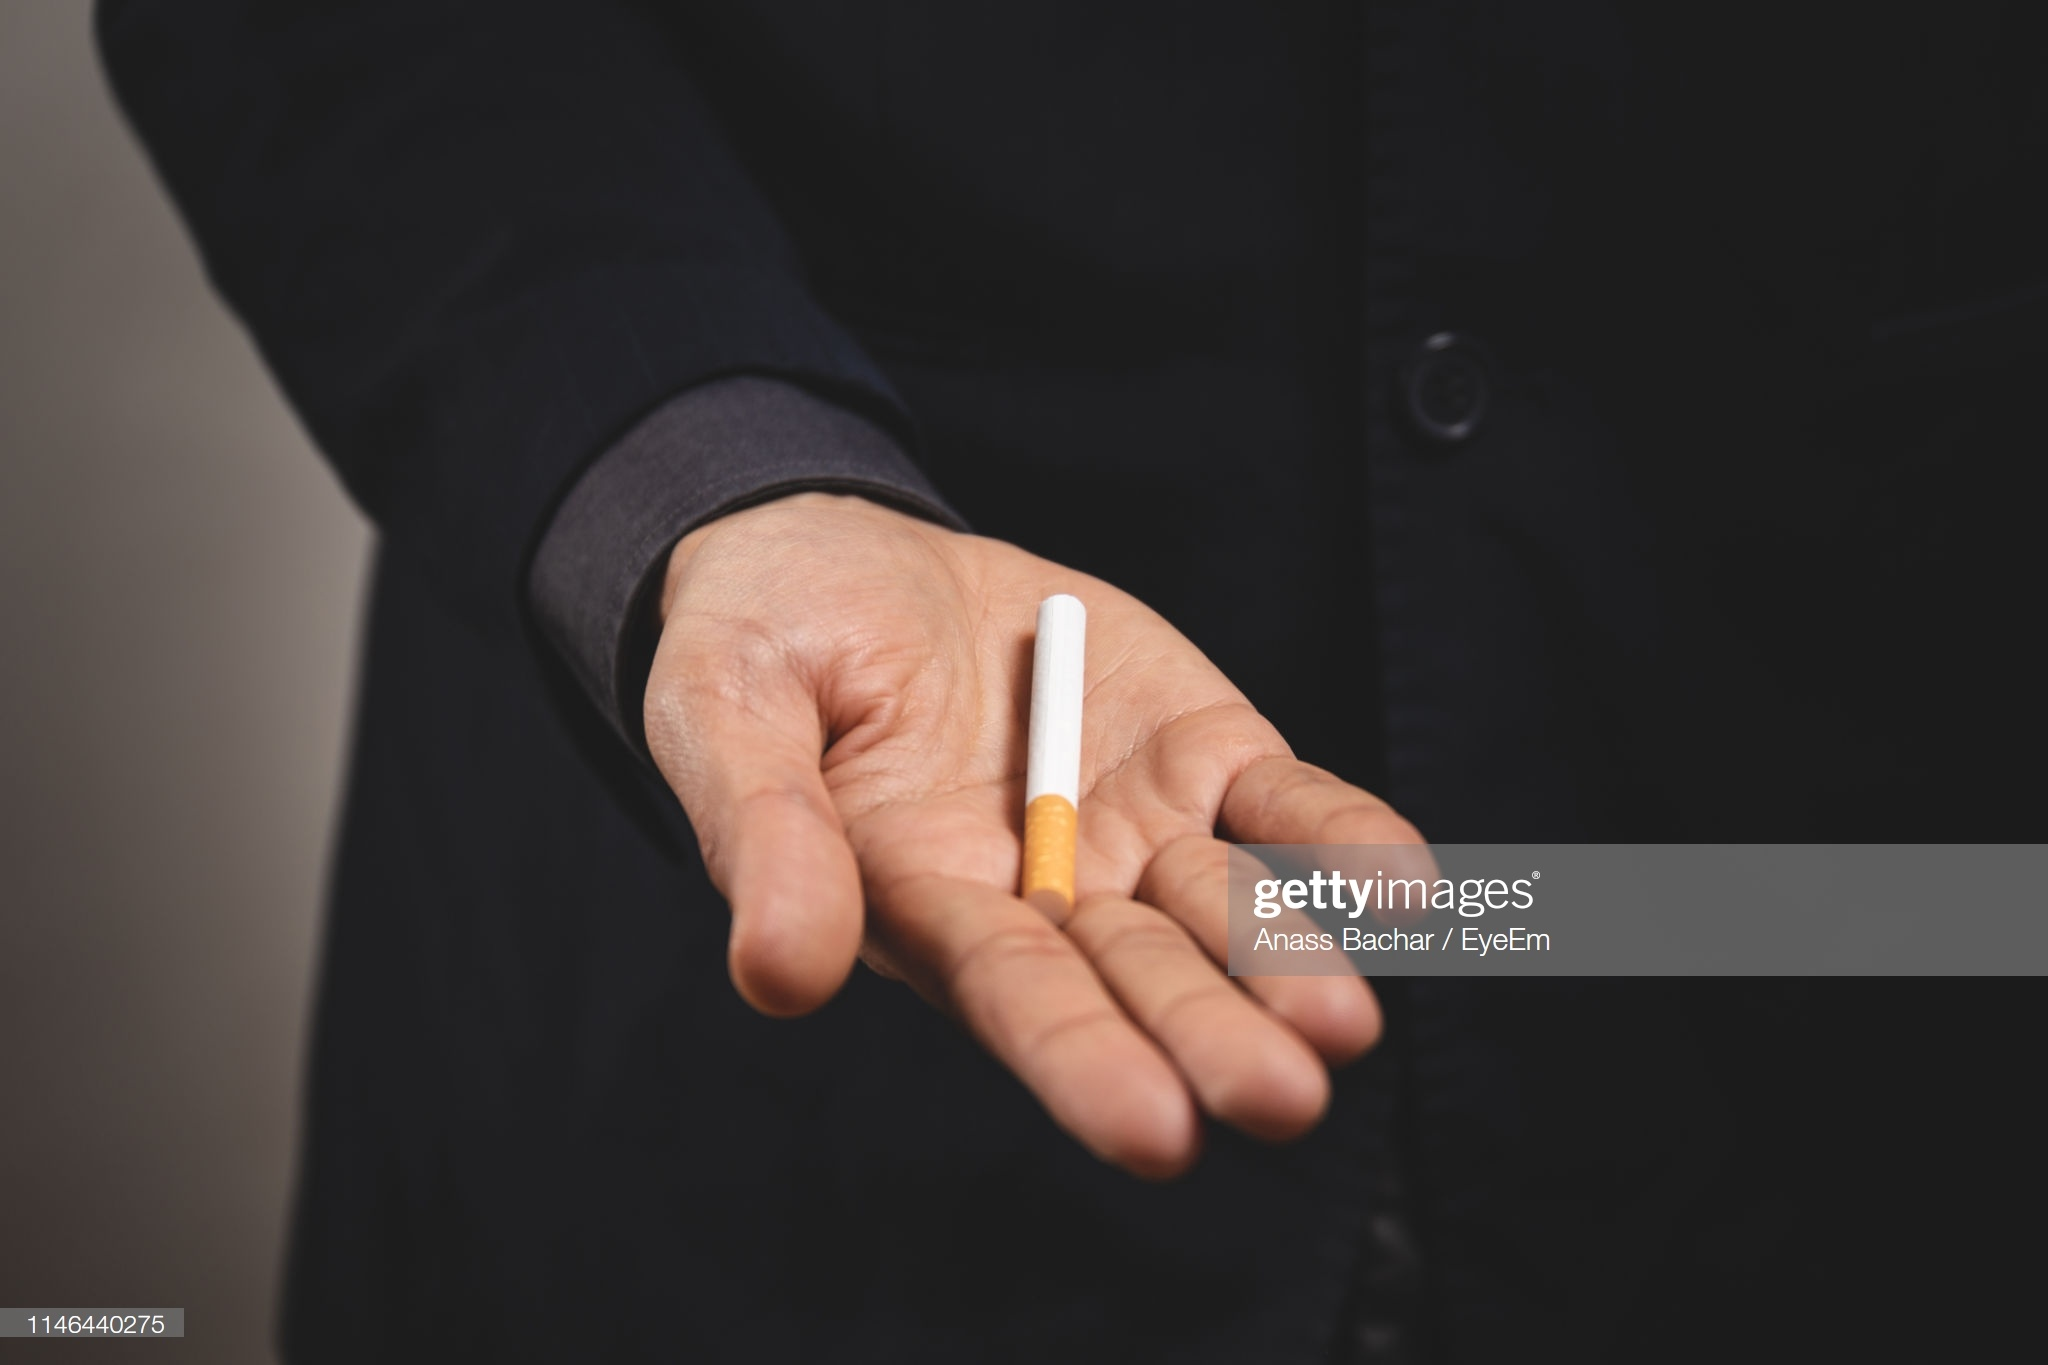sigaretta: (1019, 591, 1087, 938)
